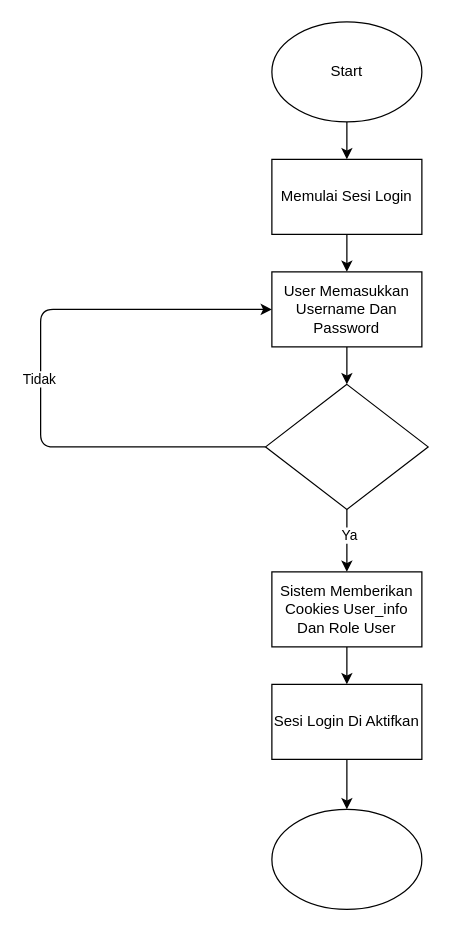
This 450x931 diagram has some shape labels left out. Each missing label, with the box of its shape:
Apakah Username Dan Password Valid ?: (264, 383, 428, 509)
END: (271, 808, 422, 909)
